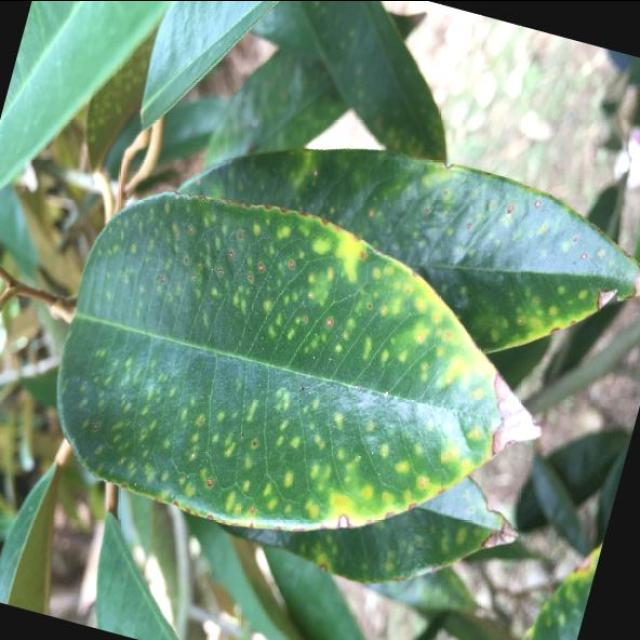Leaf Spot: (14, 67, 640, 640)
